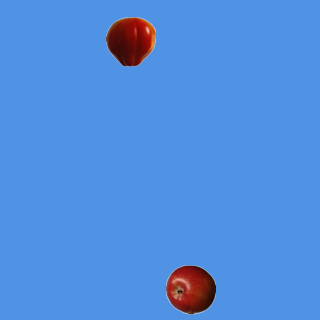Apple Braeburn: (165, 264, 215, 314)
Tomato 1: (105, 16, 155, 66)
